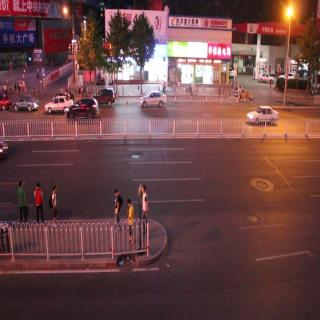Car: (244, 100, 287, 130), (64, 99, 101, 121), (90, 82, 117, 109), (136, 92, 171, 112), (13, 93, 41, 115), (46, 90, 71, 114)
